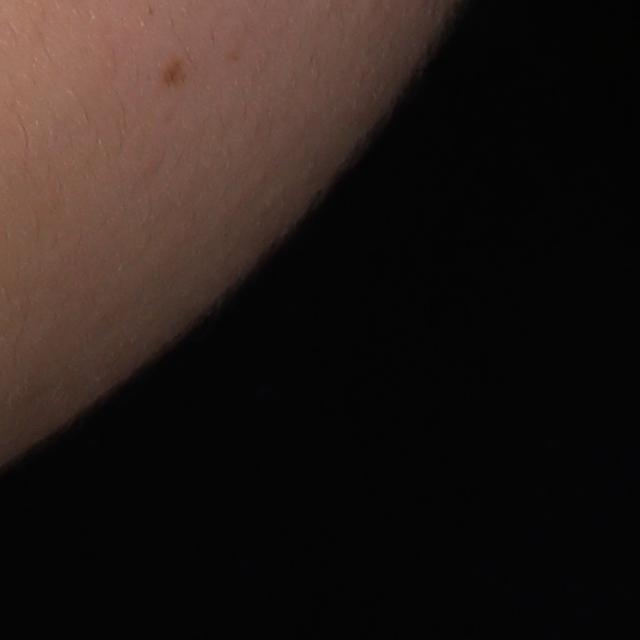nevus: (157, 57, 190, 91)
